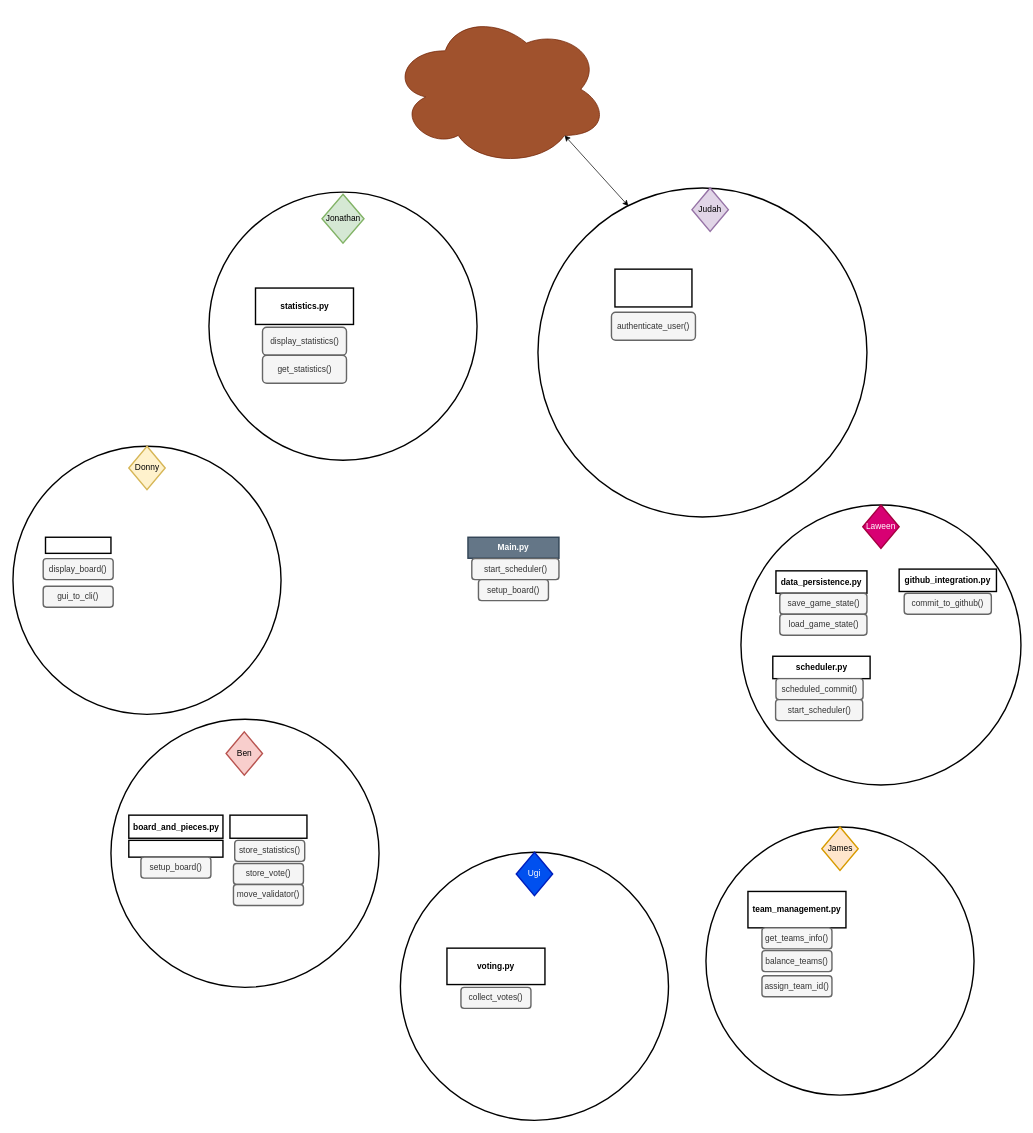
Image size: 1033x1133. Some labels were removed from this diagram. The shapes that lost their labels are listed below. From the top down, each one's centre as x and y in pixels, then its label:
(x=499, y=89): Smoke
(x=653, y=287): authentication.py
(x=77, y=545): frontend.py
(x=268, y=826): chess.py
(x=175, y=848): GUI_class.py
